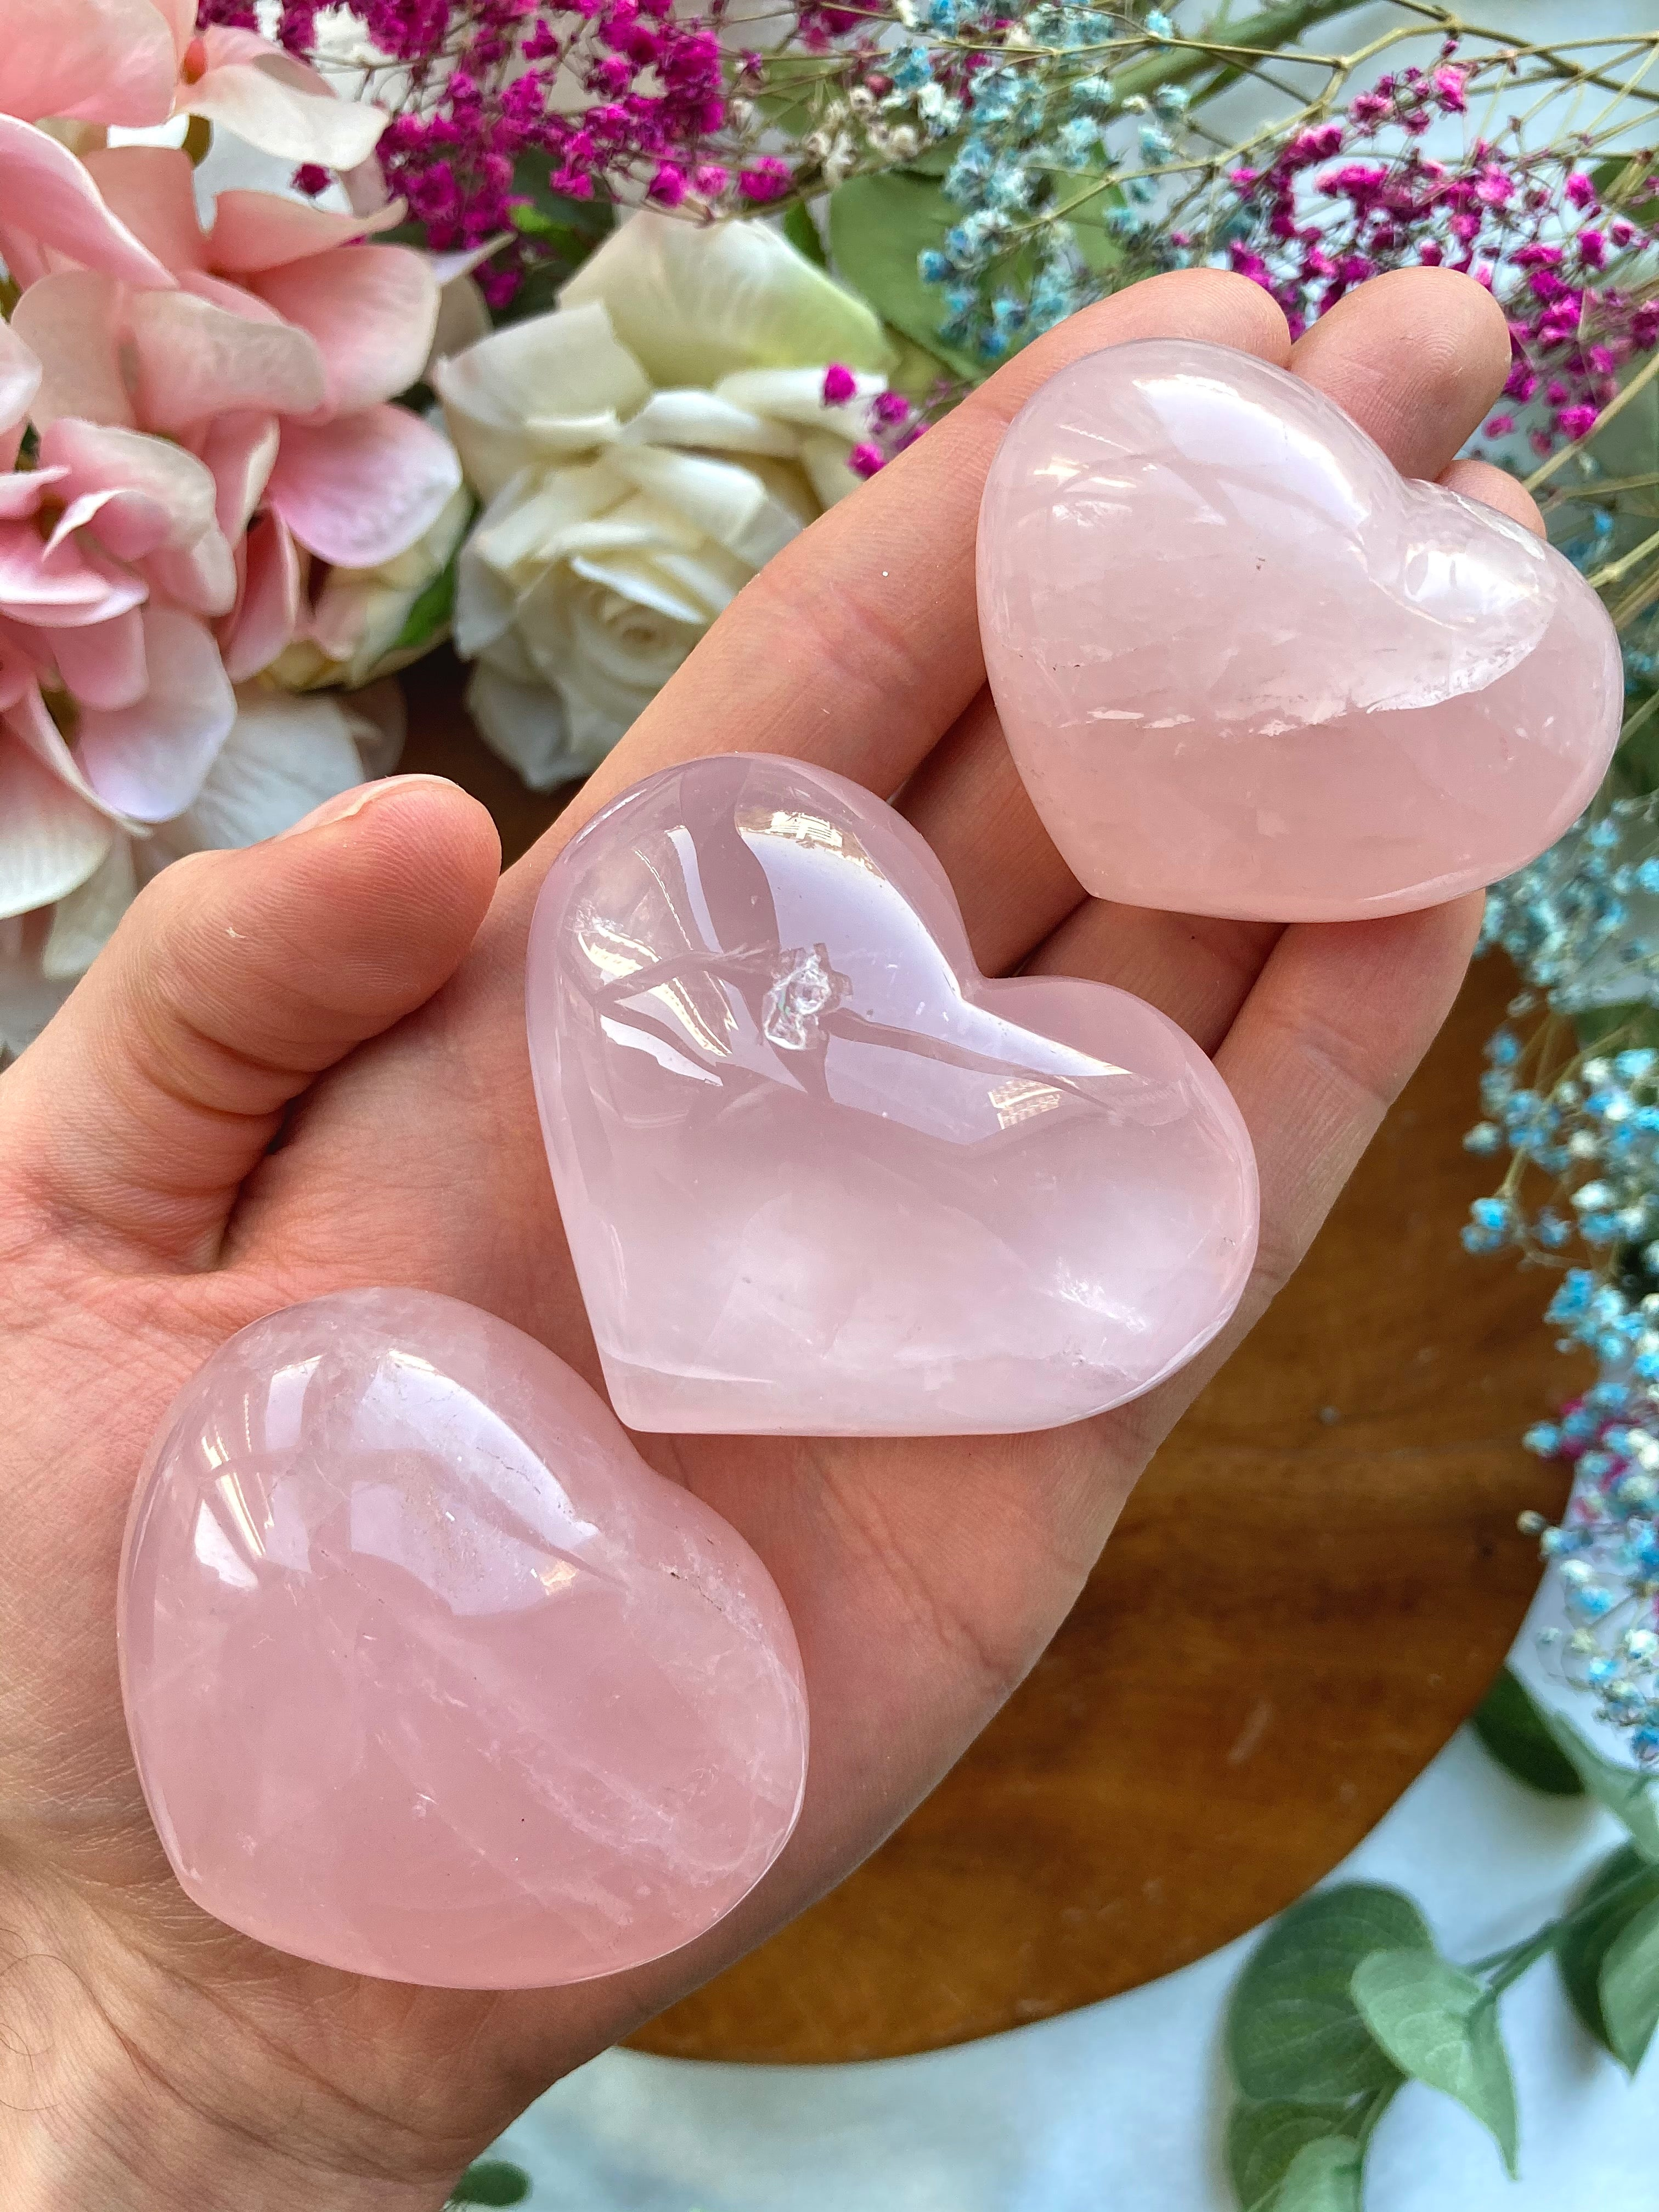Rose_Quartz: (106, 1273, 819, 1998), (986, 333, 1635, 934)
